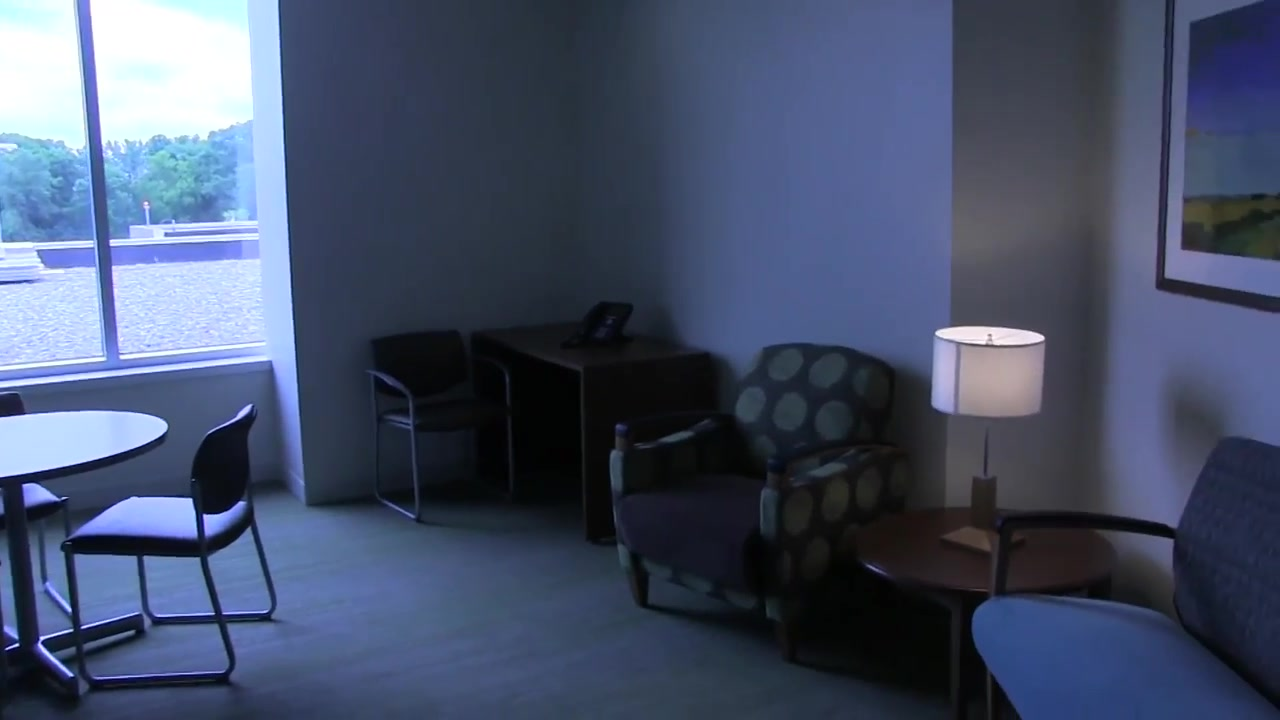chair: (58, 405, 276, 688), (362, 329, 519, 523), (1, 391, 82, 649)
sofa: (607, 340, 913, 663), (970, 434, 1280, 720)
table: (856, 503, 1117, 720), (470, 323, 714, 541), (1, 411, 166, 707)
telephone: (560, 300, 633, 352)
